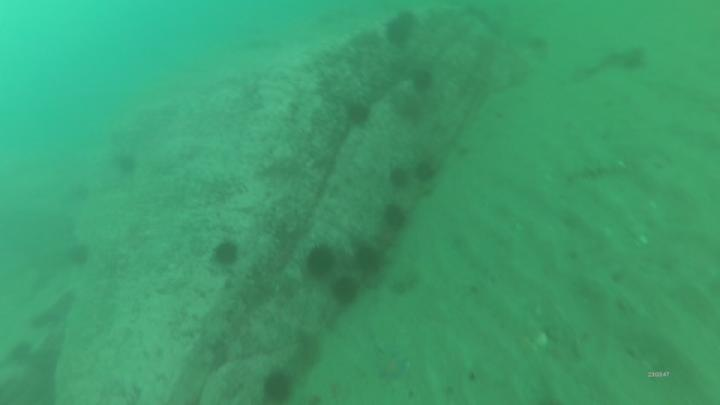echinus: (269, 372, 293, 404), (310, 248, 336, 275), (336, 279, 358, 306), (360, 247, 383, 272), (392, 19, 413, 43), (385, 206, 405, 230), (215, 245, 239, 265), (349, 102, 372, 122), (414, 73, 438, 88), (418, 164, 436, 184), (393, 172, 410, 185)
starfish: (399, 93, 426, 125), (376, 352, 405, 379), (390, 275, 416, 291)
